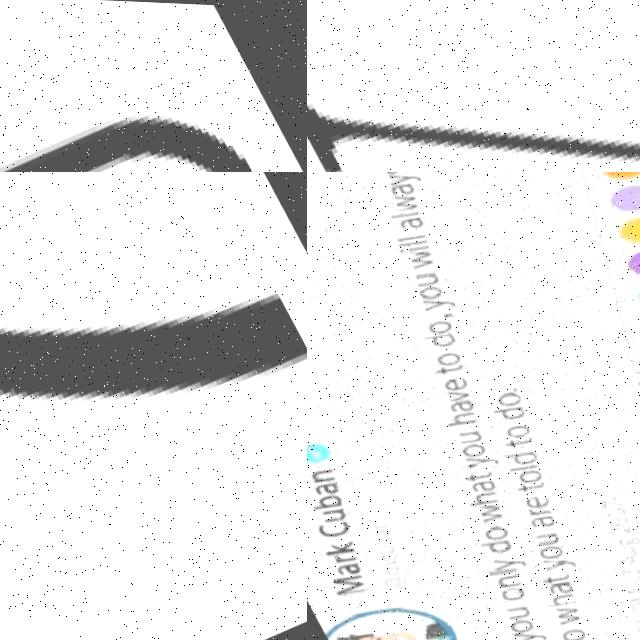0: (594, 507, 623, 531)
1: (592, 498, 622, 522)
2: (597, 516, 626, 540)
4: (618, 602, 640, 628)
5: (621, 612, 640, 636)
6: (624, 624, 640, 640)
7: (0, 172, 307, 640), (606, 557, 638, 583), (590, 491, 620, 514)
U: (0, 16, 307, 172)
W: (307, 0, 640, 172)
